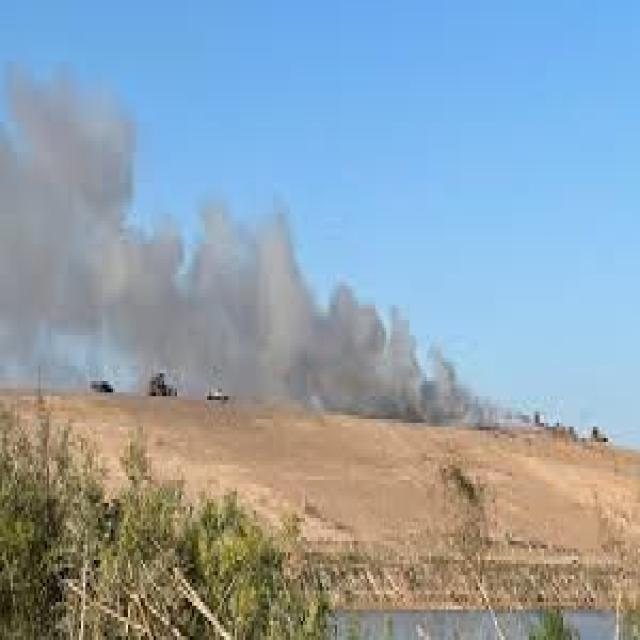Smoke: (0, 95, 453, 425)
